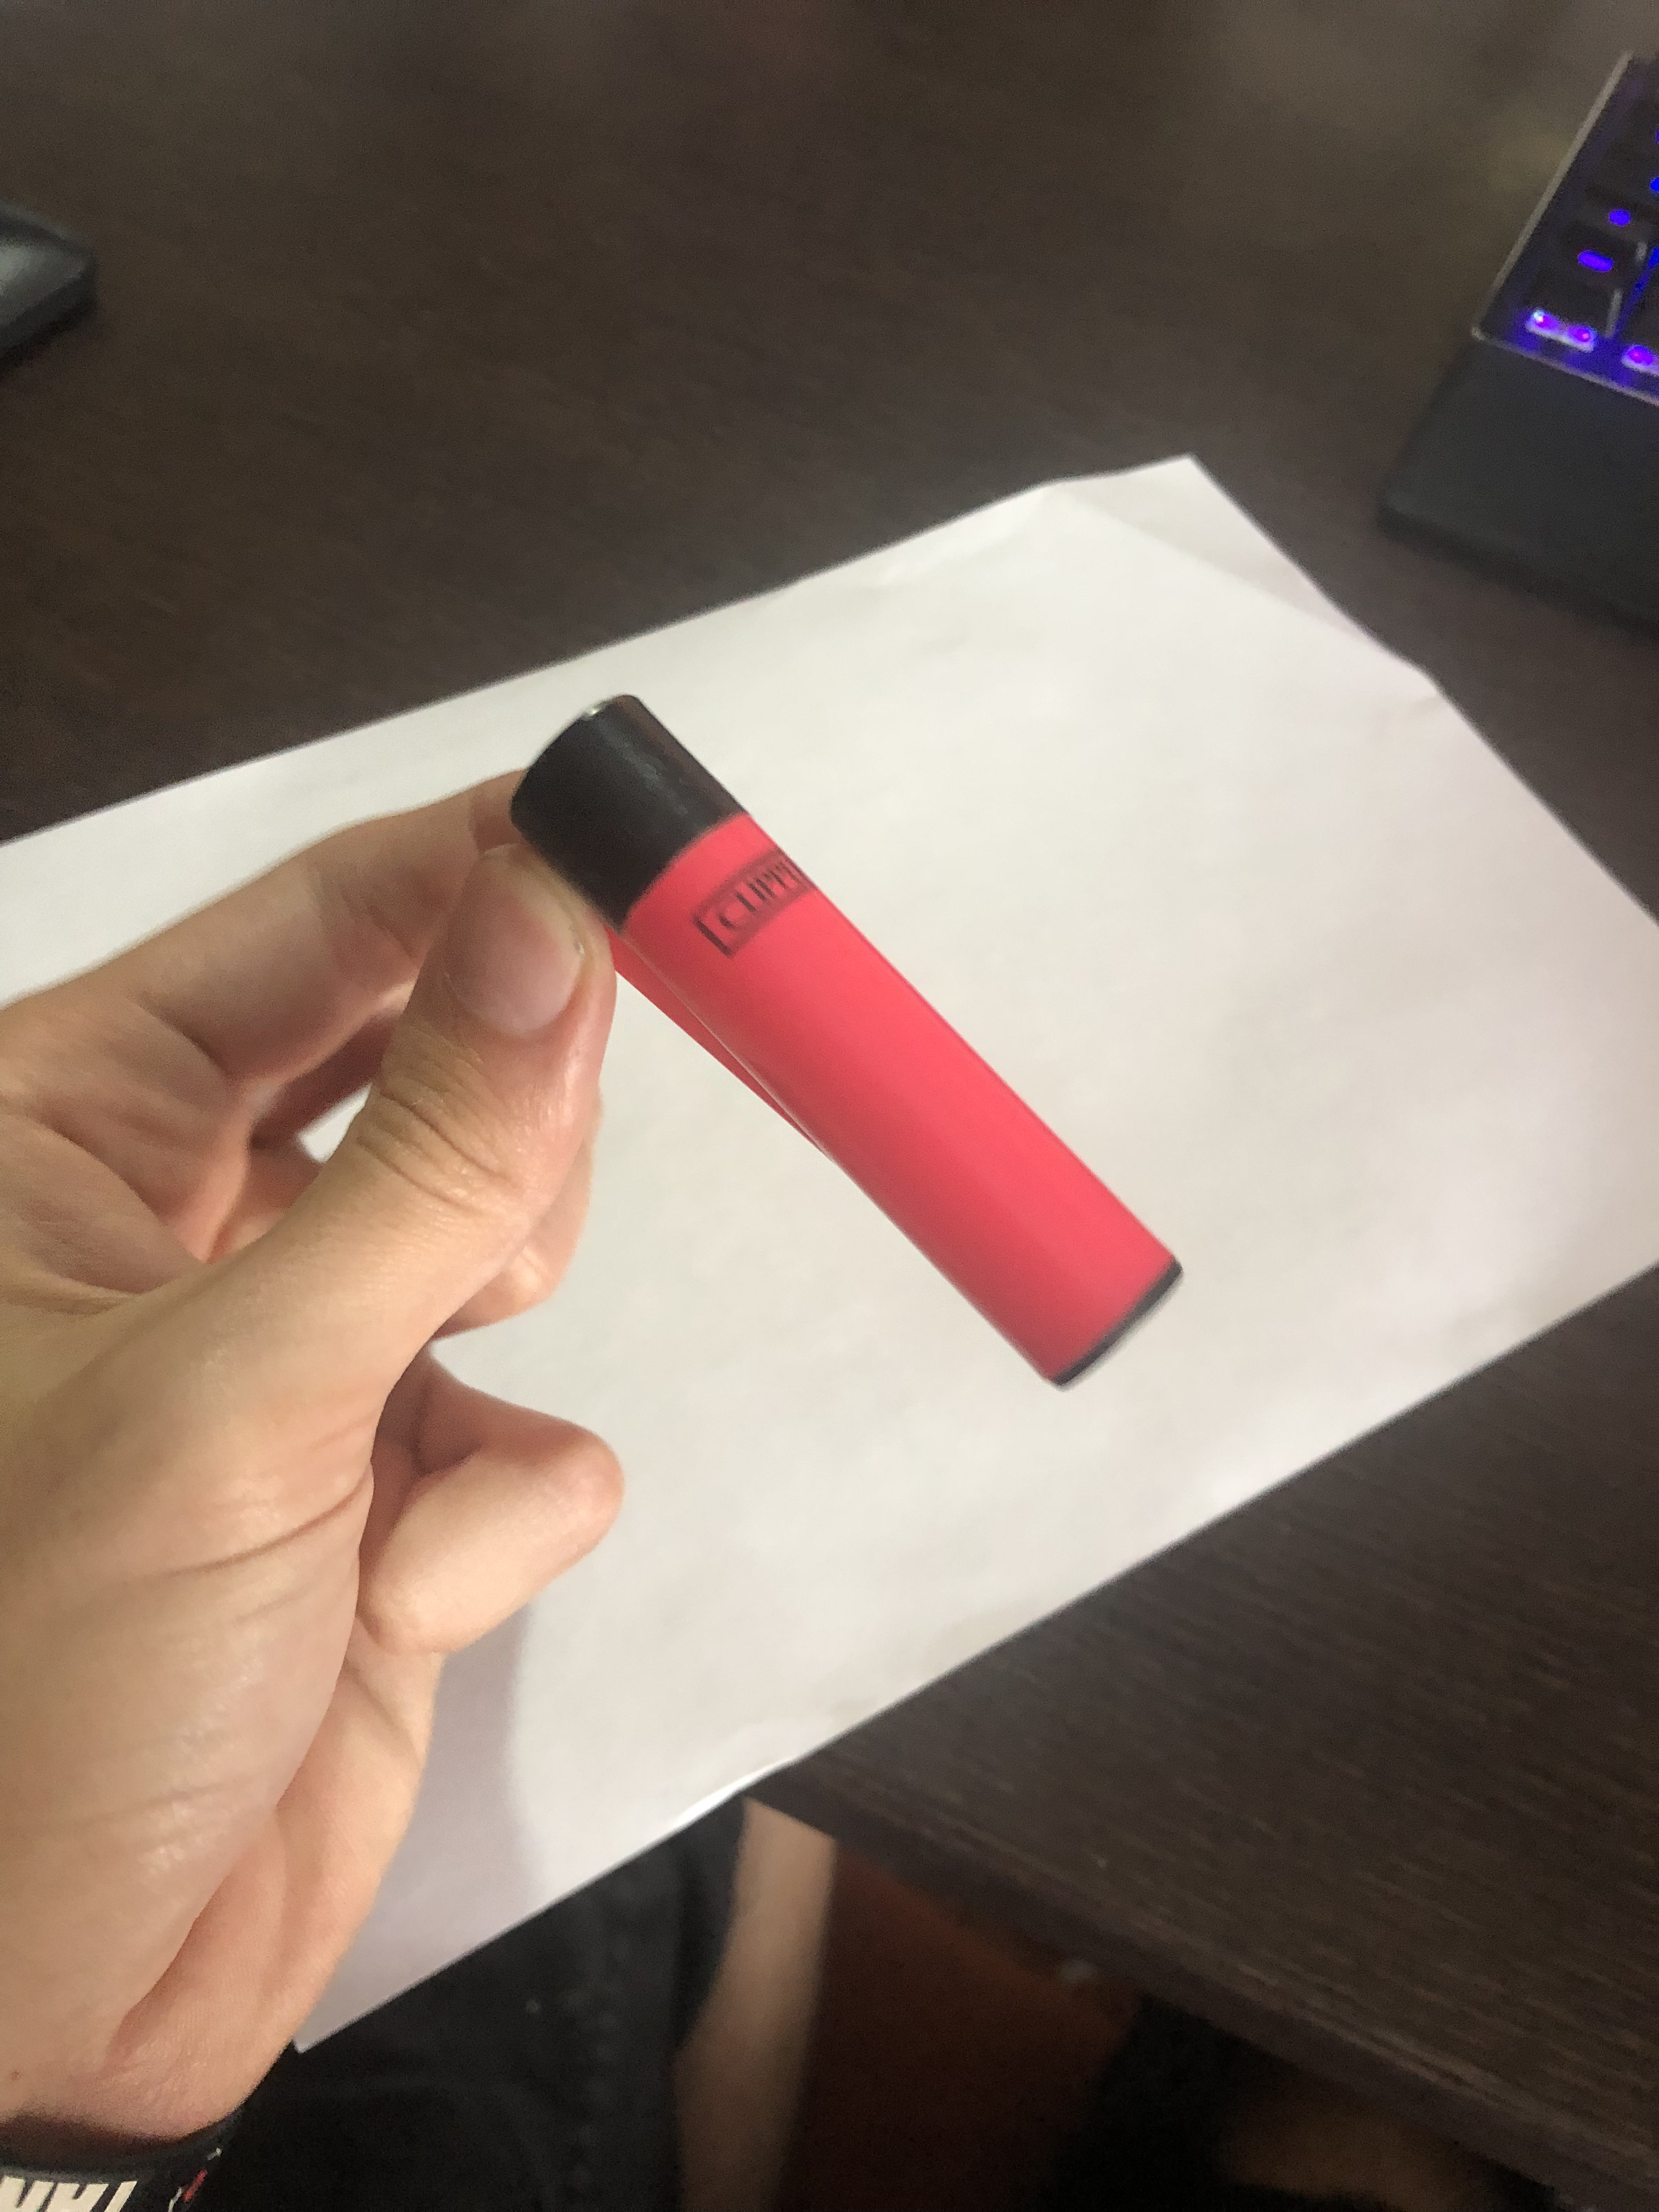Mechero: (502, 672, 1180, 1400)
